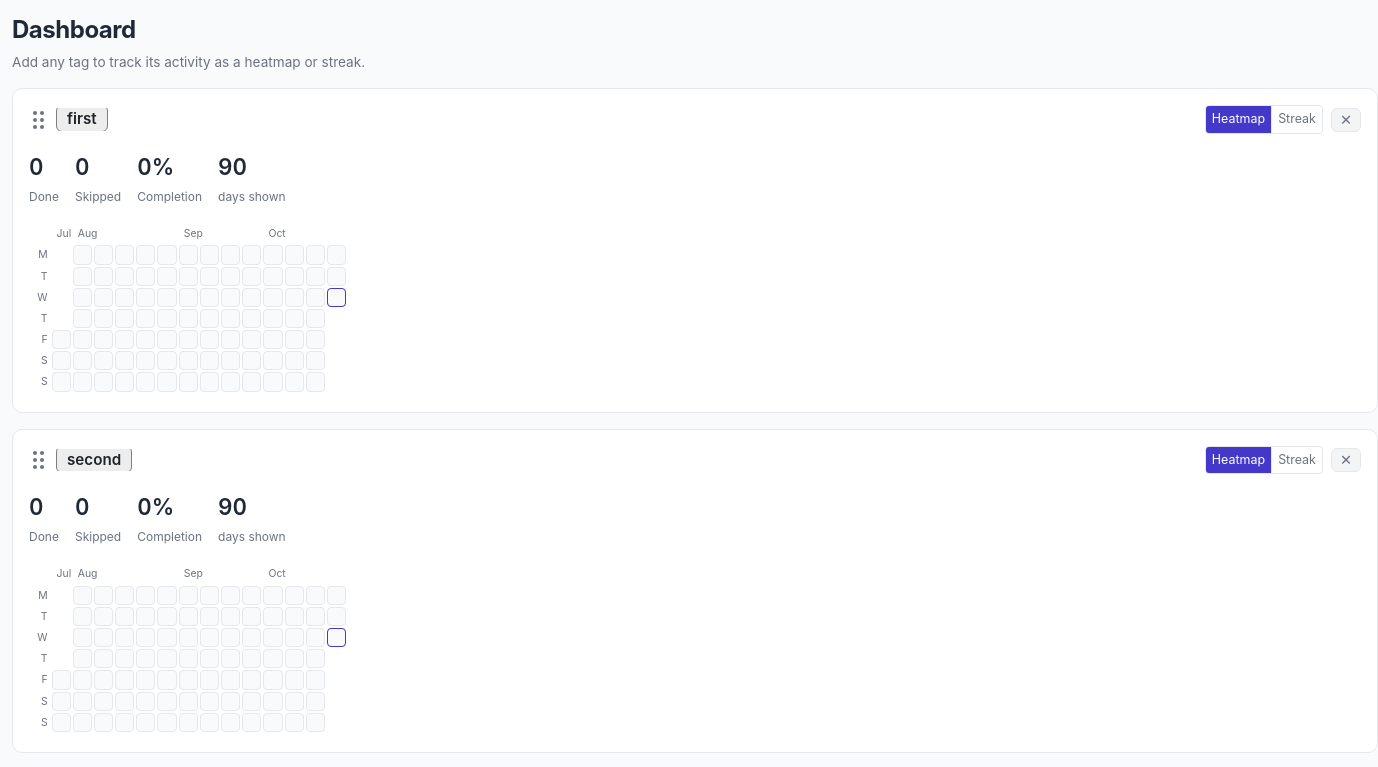
Test: DashboardView — tag order › enters dragging state on handle pointer down
The image size is (1378, 767).
Press the mouse on the button named "drag to reorder second" at [38, 460], box x1=29 y1=447 x2=48 y2=473
(page scrolled)
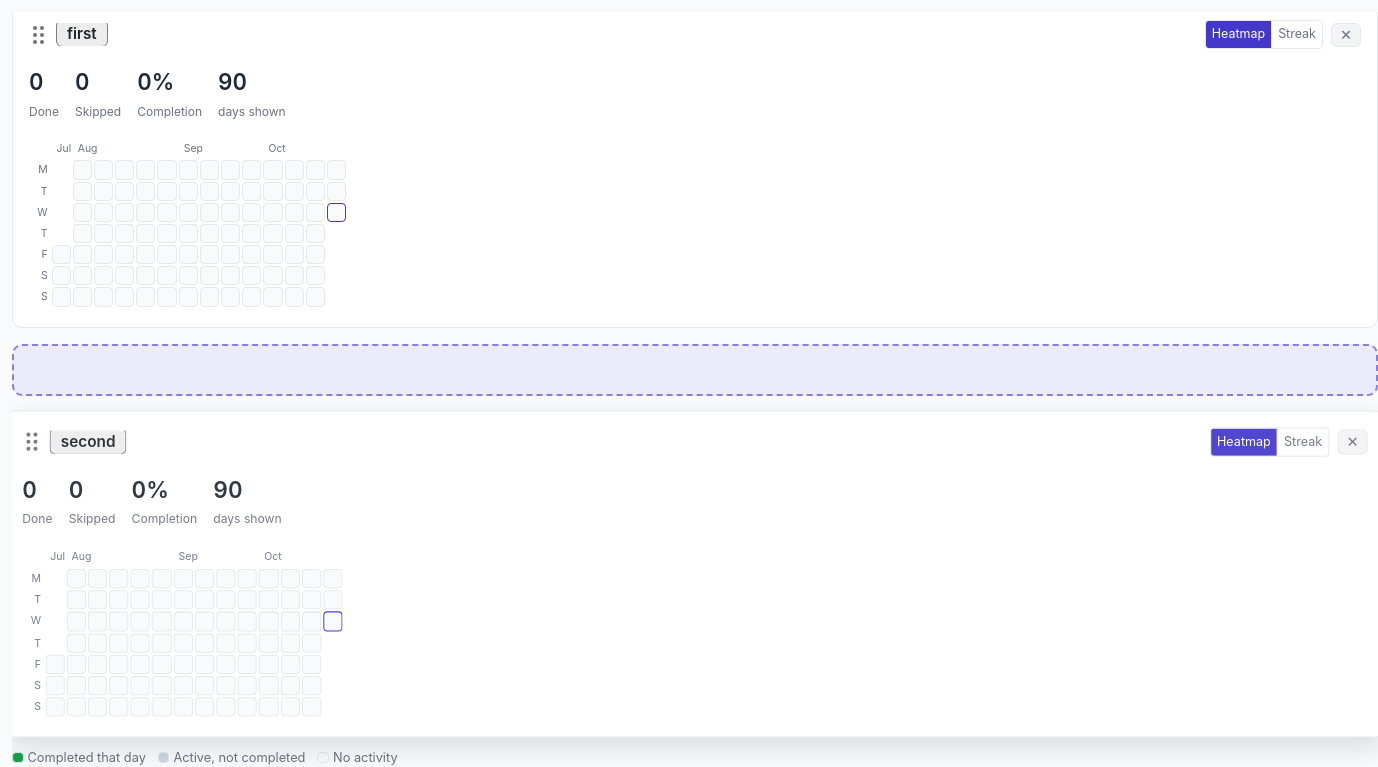
Result: the element with class "dashboard-cards-dragging" is shown
Result: the element with class "dashboard-card-dragging" is shown at x1=12 y1=410 x2=1377 y2=738
